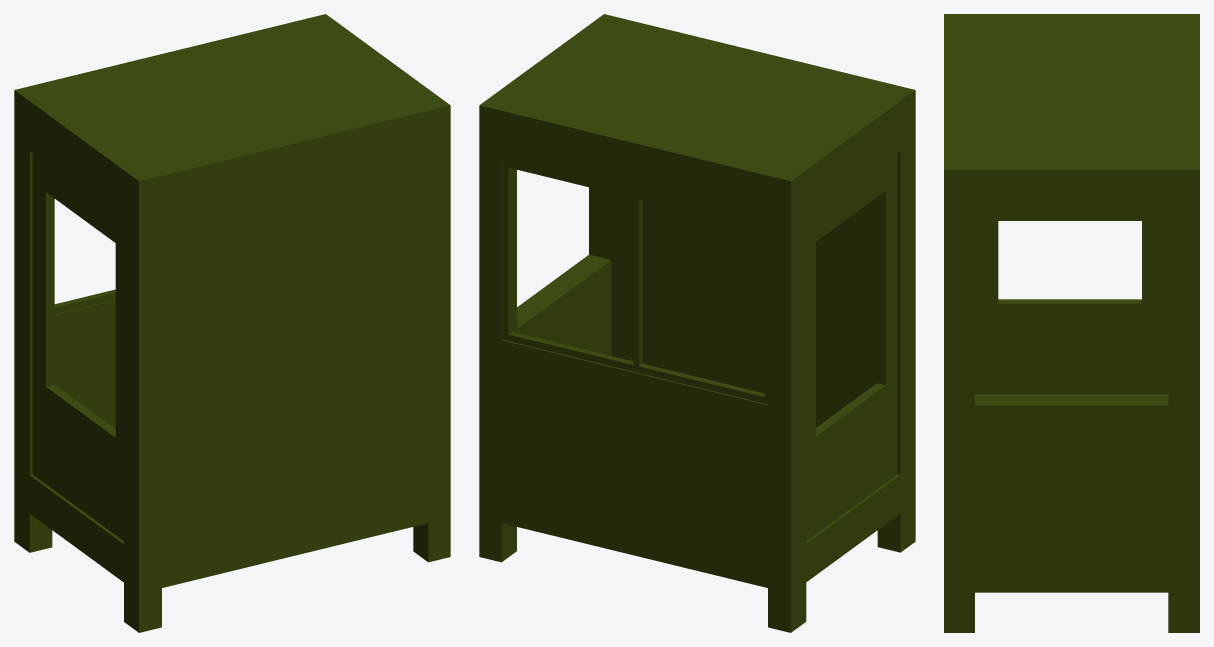
File: MarshallRoom_M.fbx
3 views of the same model, side by side, from view 1: azimuth 30°, elevation 25°; view 2: azimuth 150°, elevation 25°; view 3: azimuth 270°, elevation 25° (orthographic). The views are drawn at different scales.
Visible parts, largest first — view 1: MarshallRoom; view 2: MarshallRoom; view 3: MarshallRoom.
Part boxes in pixels (x1,y1,x2,y2): MarshallRoom: [14, 14, 450, 632]; MarshallRoom: [479, 14, 915, 632]; MarshallRoom: [944, 14, 1199, 632].
Size of the model in its own units: 0.9815 by 1.36 by 0.6809.
